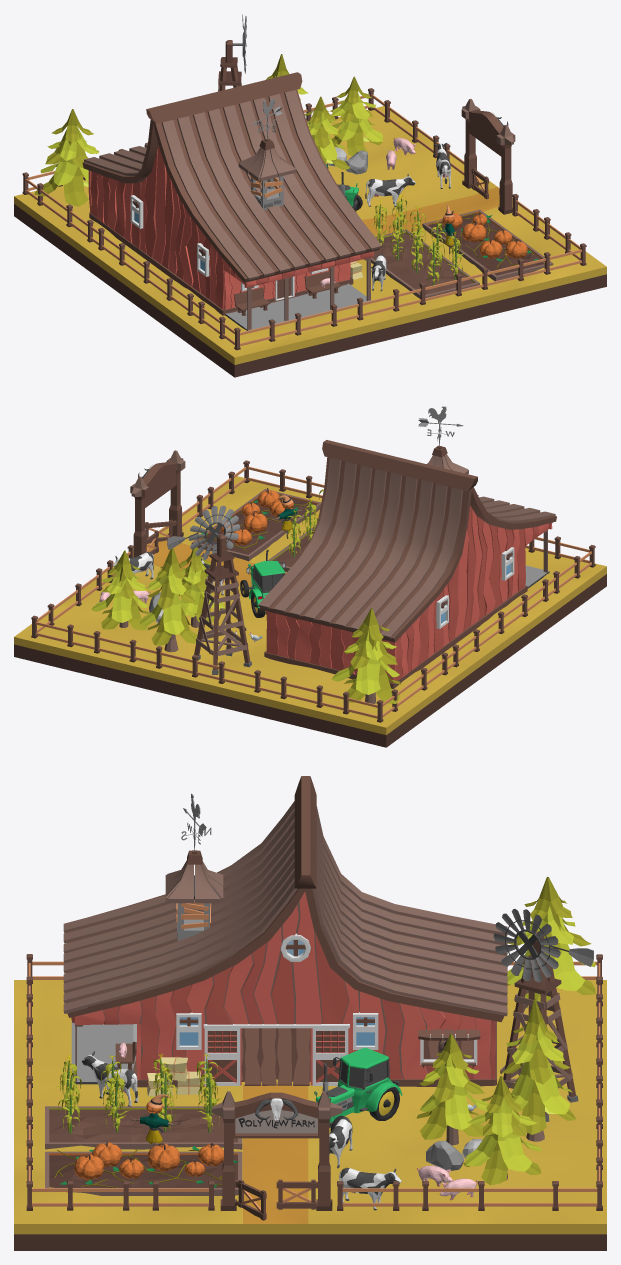
The model's file is farm.glb.
The picture shows the model from 3 angles, top to bottom: view 1: azimuth 30°, elevation 25°; view 2: azimuth 150°, elevation 25°; view 3: azimuth 270°, elevation 25°; orthographic projection. The views are drawn at different scales.
Visible parts, largest first — view 1: Cube.014, Plane.002, Text.001, Plane.005, Cube.010, Cube.009, Plane.000, Plane.008, Sphere.001; view 2: Cube.014, Plane.002, Text.001, Plane.005, Plane.000, Cube.009, Cube.011, Cube.010, Plane.006; view 3: Cube.014, Plane.002, Plane.005, Text.001, Cube.010, Cube.009, Plane.000, Cube.011, Plane.006, Plane.007, Sphere.001, Plane (+1 smaller).
Part boxes in pixels (<box>): Cube.014: <box>82,72,381,330</box>; Plane.002: <box>14,106,606,377</box>; Text.001: <box>22,88,586,350</box>; Plane.005: <box>34,54,382,206</box>; Cube.010: <box>371,195,479,298</box>; Cube.009: <box>422,209,553,281</box>; Plane.000: <box>218,14,246,91</box>; Plane.008: <box>365,174,415,206</box>; Sphere.001: <box>327,147,367,174</box>; Cube.014: <box>258,406,556,688</box>; Plane.002: <box>14,476,606,747</box>; Text.001: <box>31,450,595,722</box>; Plane.005: <box>91,547,401,703</box>; Plane.000: <box>167,505,251,674</box>; Cube.009: <box>191,488,321,561</box>; Cube.011: <box>240,549,285,617</box>; Cube.010: <box>267,489,323,571</box>; Plane.006: <box>113,552,153,579</box>; Cube.014: <box>63,776,507,1087</box>; Plane.002: <box>14,980,606,1250</box>; Plane.005: <box>416,877,595,1185</box>; Text.001: <box>26,954,602,1220</box>; Cube.010: <box>45,1053,242,1149</box>; Cube.009: <box>45,1141,242,1195</box>; Plane.000: <box>493,909,593,1121</box>; Cube.011: <box>314,1047,402,1131</box>; Plane.006: <box>339,1167,401,1210</box>; Plane.007: <box>81,1051,138,1106</box>; Sphere.001: <box>426,1139,482,1170</box>; Plane: <box>128,1094,185,1145</box>.
Size of the model in its own units: 37.14 by 19.55 by 38.11.
15 materials, 15 textured.
